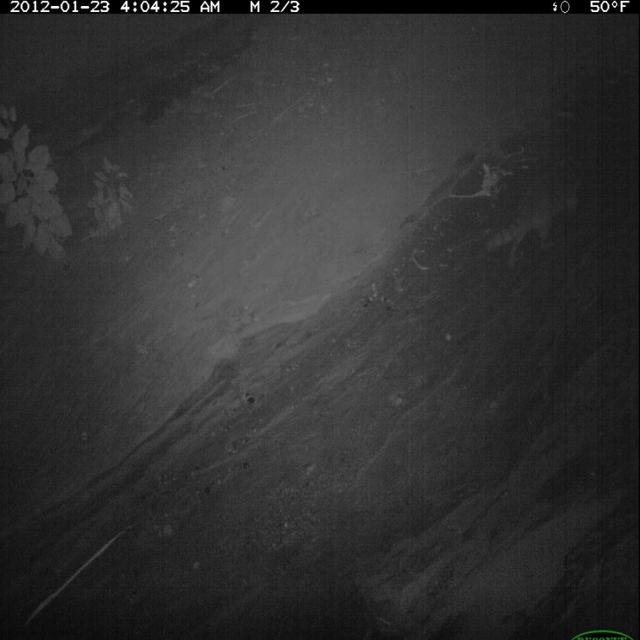raccoon: (478, 152, 592, 272)
